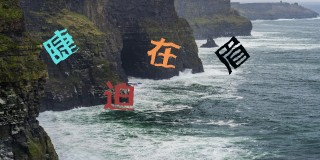在: (147, 35, 182, 70)
眉: (215, 35, 251, 76)
睫: (42, 27, 80, 65)
迫: (102, 80, 138, 112)
